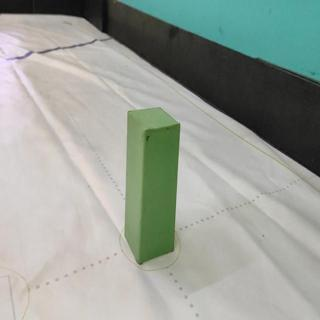greenbox: (123, 106, 182, 267)
